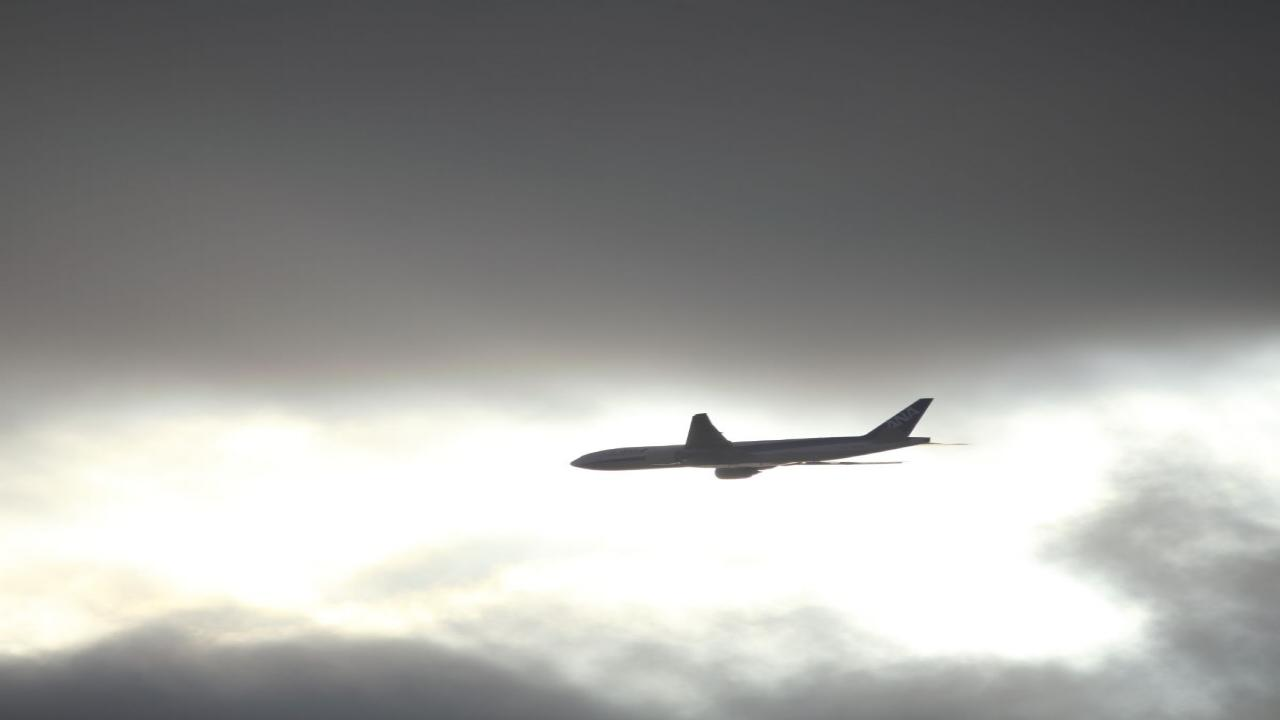Airplane: (560, 387, 966, 487)
